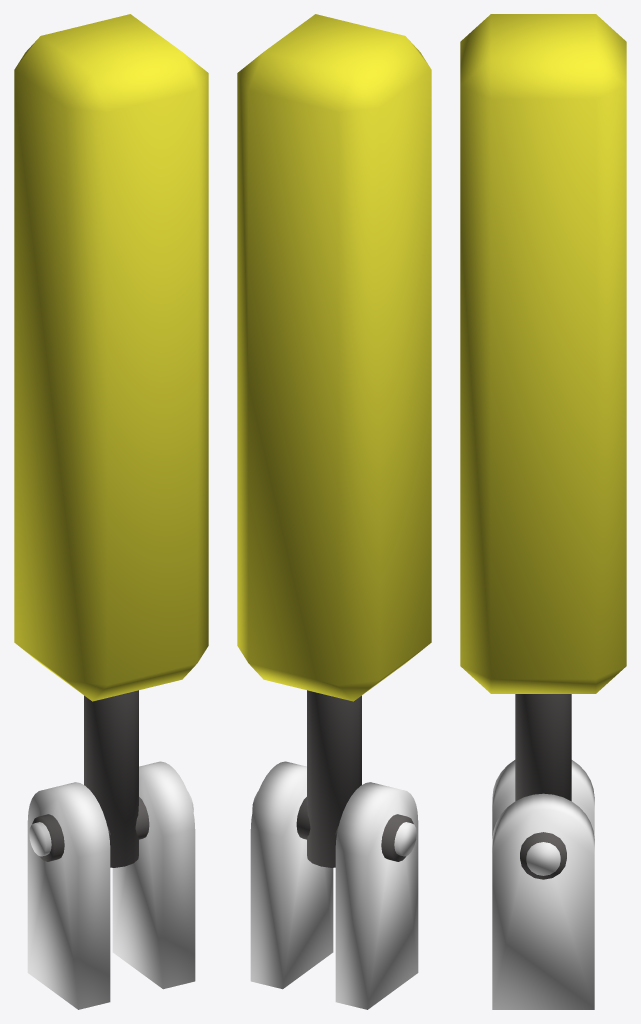
File: Obstacle 22 V2.fbx
3 views of the same model, side by side, from view 1: azimuth 30°, elevation 25°; view 2: azimuth 150°, elevation 25°; view 3: azimuth 270°, elevation 25° (orthographic).
Parts seen in each view (by area): view 1: O22 Part 2, O22 Part 1; view 2: O22 Part 2, O22 Part 1; view 3: O22 Part 2, O22 Part 1.
Part boxes in pixels (x1,y1,x2,y2): O22 Part 2: (14, 14, 208, 867); O22 Part 1: (27, 761, 195, 1009); O22 Part 2: (237, 14, 431, 867); O22 Part 1: (250, 761, 418, 1009); O22 Part 2: (460, 14, 626, 879); O22 Part 1: (492, 760, 594, 1009).
Bounding box in the file's own units: 64.76 × 391 × 62.5.
Materials: 1 (1 with a texture image).
